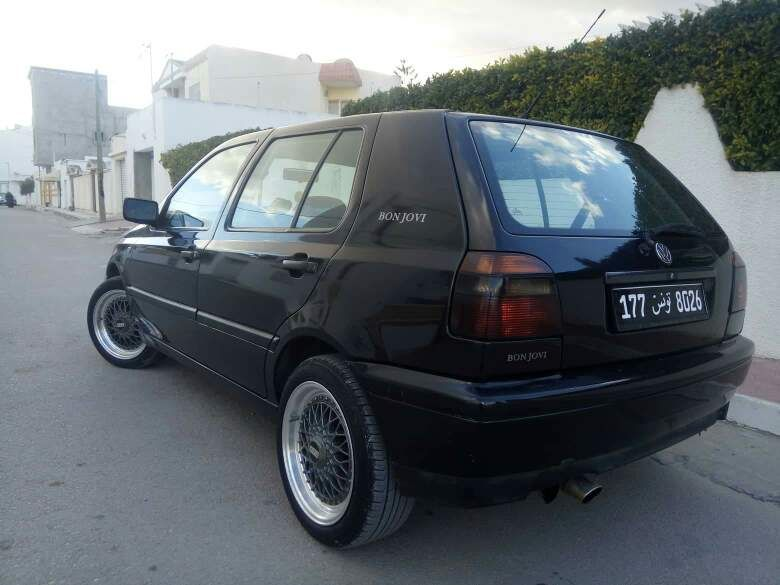LP: (611, 282, 713, 321)
